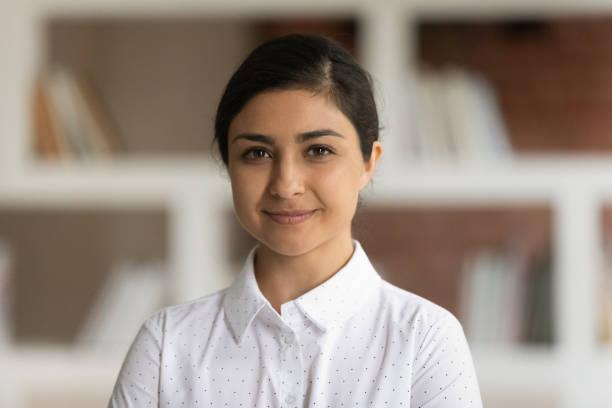no_goggle: (218, 129, 366, 173)
no_helmet: (211, 26, 388, 139)
no_vest: (105, 248, 487, 408)
